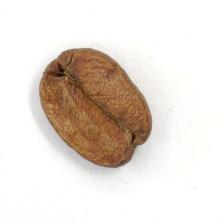NG: (49, 57, 139, 152)
